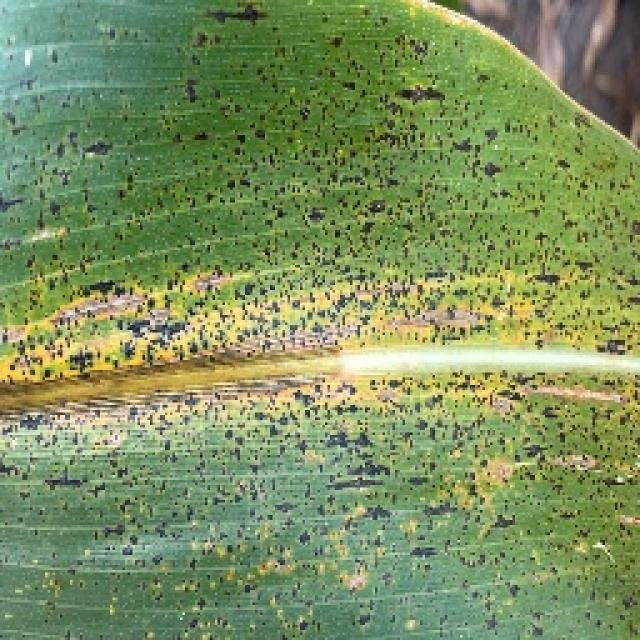Tar_Spot: (0, 125, 573, 413)
